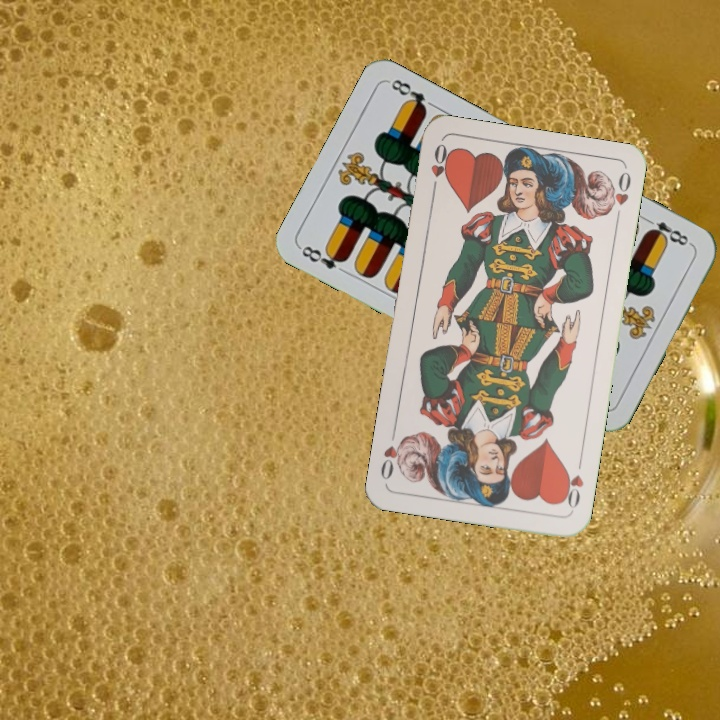E8: (641, 213, 695, 251), (296, 241, 349, 272)
HO: (558, 454, 586, 513), (426, 139, 452, 198)
